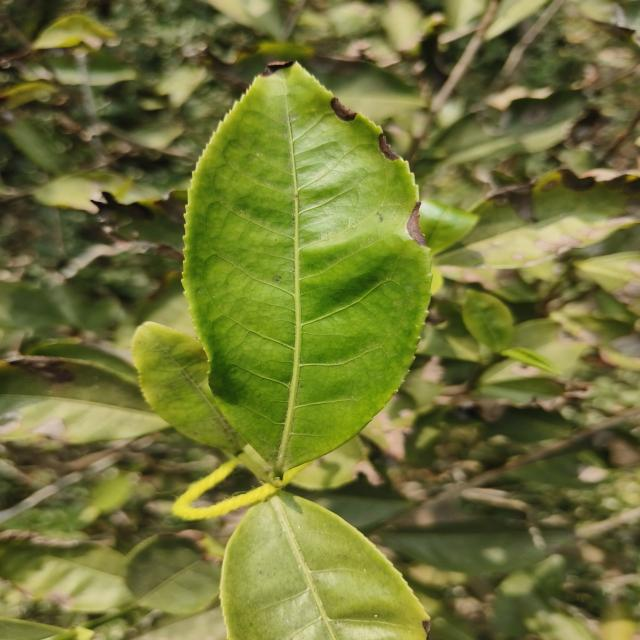Leaf: (183, 62, 430, 472), (221, 491, 428, 640), (436, 169, 640, 274), (234, 41, 424, 126), (132, 322, 246, 453), (0, 356, 168, 443), (438, 90, 583, 165), (379, 519, 572, 575), (0, 538, 133, 612), (126, 530, 221, 615), (574, 252, 640, 315), (480, 400, 573, 443), (0, 282, 68, 330), (419, 200, 478, 255), (462, 289, 513, 352), (33, 14, 116, 50), (476, 378, 572, 405)
